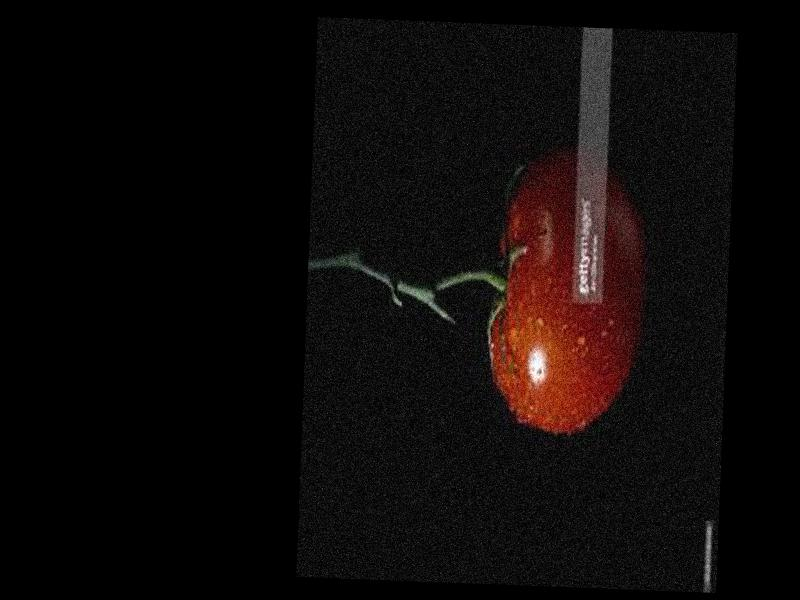Tomato: (488, 156, 644, 434)
